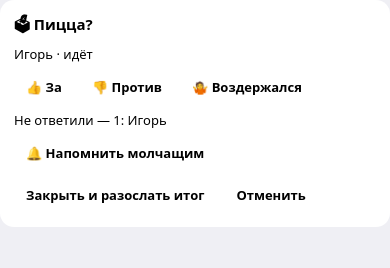
Scenario: PollCard — админ у чужого опроса › вопрос «Закрыть» называет того, кто спрашивает
The image size is (390, 268).
Click the button "Закрыть и разослать итог": (115, 195) [14,177,216,213]
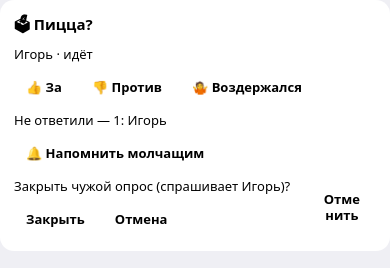
Now the text "Закрыть чужой опрос (спрашивает Игорь)?" is shown, box [14,177,300,195]
